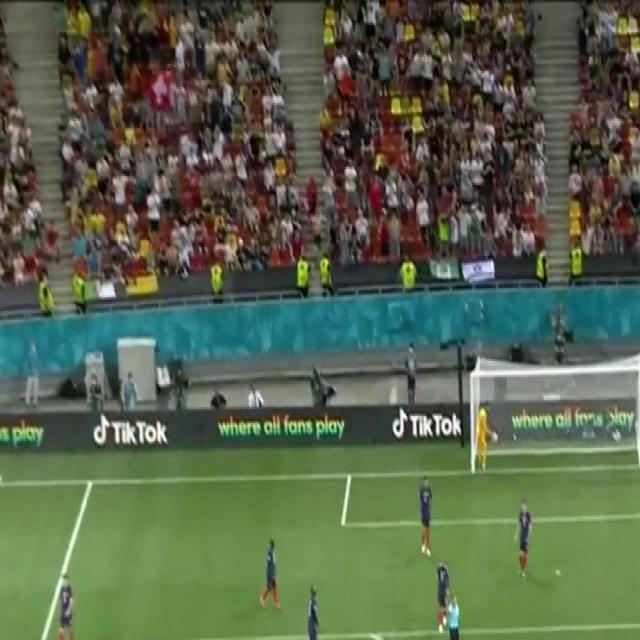ball: (492, 430, 500, 442)
player-white: (258, 537, 282, 613), (513, 498, 533, 580), (54, 570, 75, 640), (418, 474, 433, 558), (435, 558, 451, 636), (475, 400, 491, 471), (304, 581, 321, 640), (445, 592, 462, 640)
